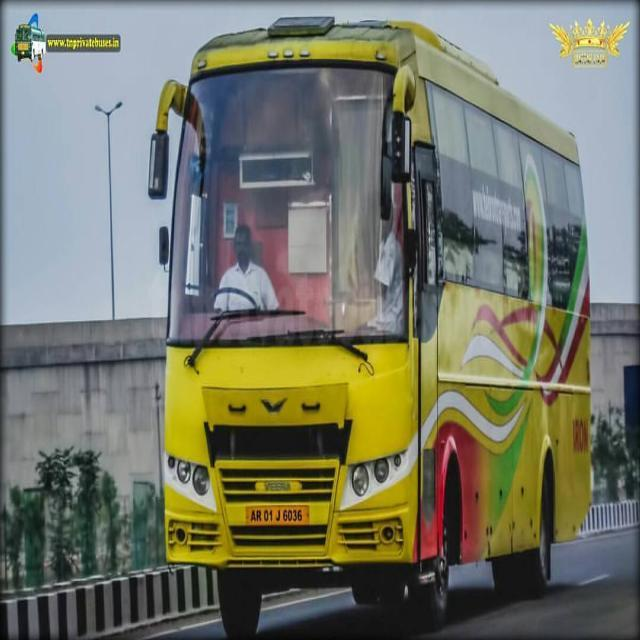Bus: (146, 13, 594, 640)
